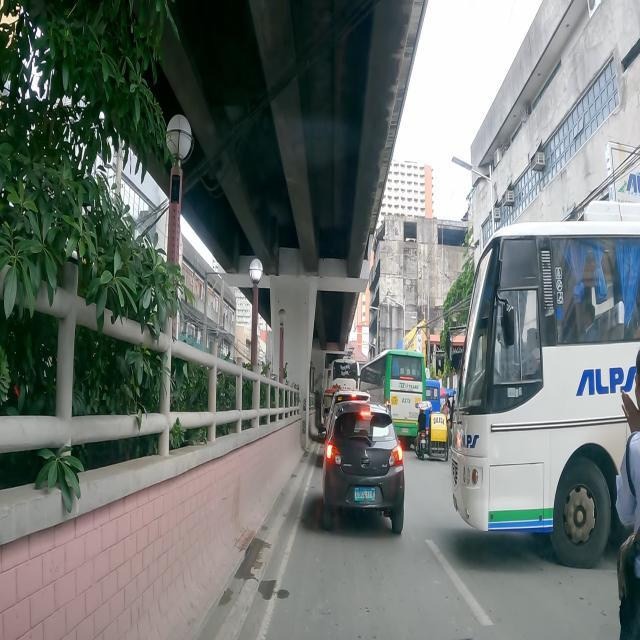bus: (445, 200, 640, 570), (358, 348, 426, 451), (330, 360, 360, 390)
car: (318, 400, 406, 536)
tricycle: (414, 398, 449, 462)
